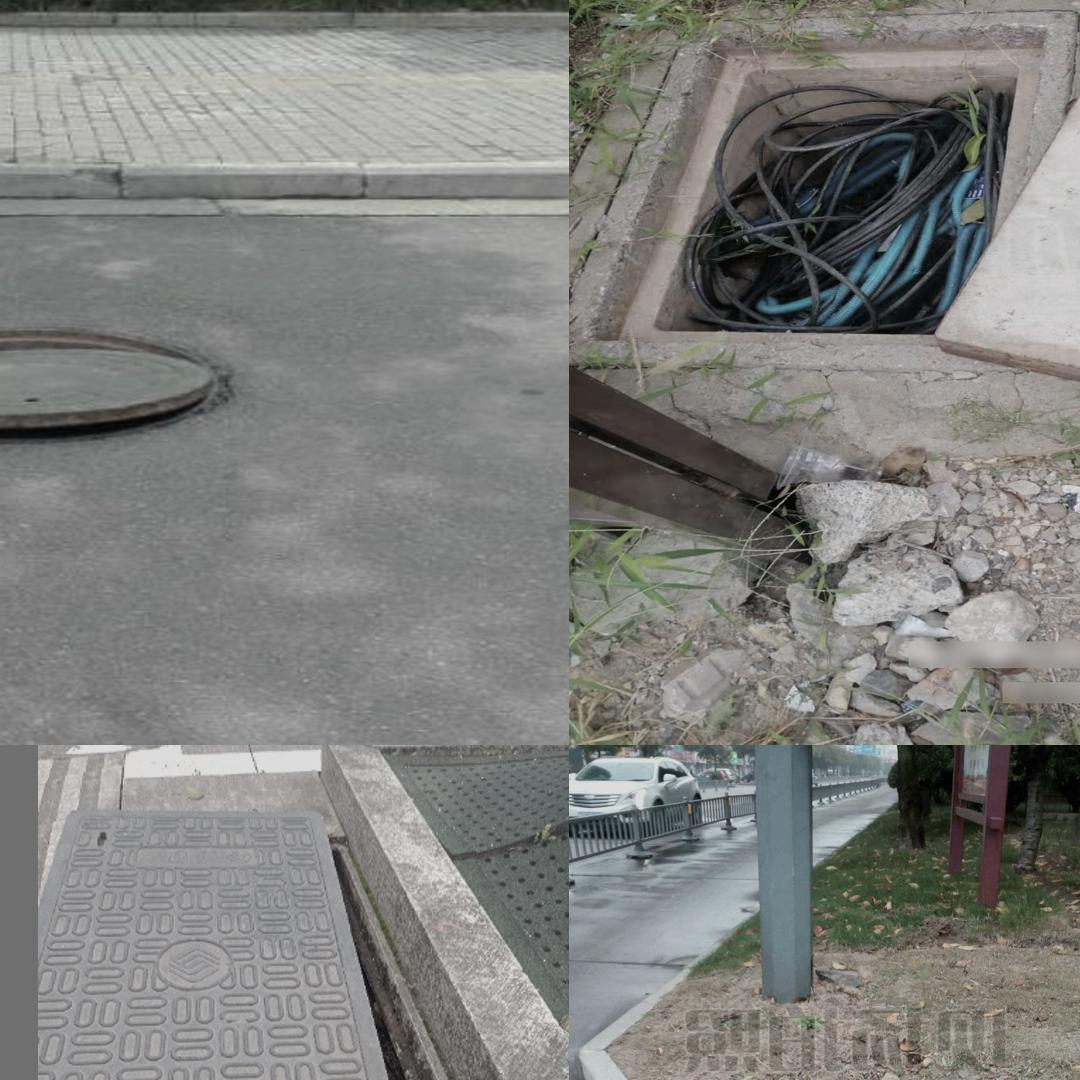uncovered: (569, 22, 1080, 445), (39, 804, 544, 1080), (0, 291, 245, 434)
